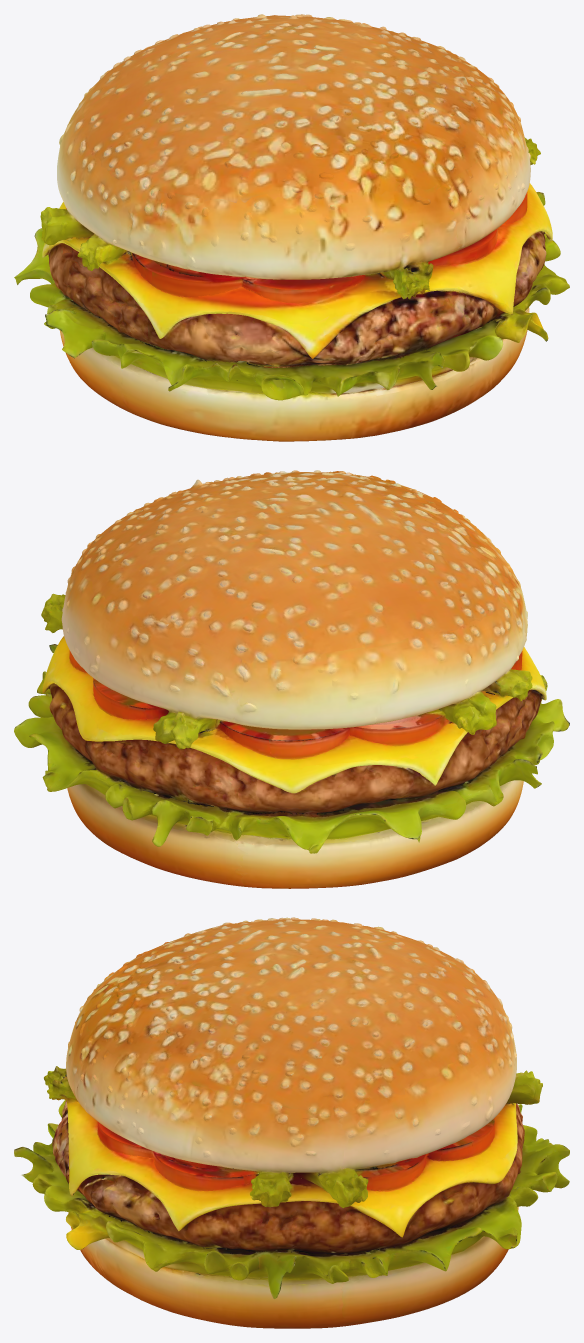
File: dish.glb
3 renders of one model, top to bottom at view 1: azimuth 30°, elevation 25°; view 2: azimuth 150°, elevation 25°; view 3: azimuth 270°, elevation 25°, orthographic. The views are drawn at different scales.
Parts seen in each view (by area): view 1: model; view 2: model; view 3: model.
Boxes of the visible parts, bbox=[...] form: model: bbox=[14, 14, 569, 441]; model: bbox=[14, 470, 569, 888]; model: bbox=[14, 917, 569, 1328].
Size of the model in its own units: 1.9 by 1.09 by 1.9.
Materials: 1 (1 with a texture image).
